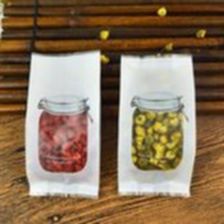snack: (110, 43, 204, 204), (16, 43, 108, 202)
